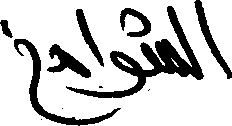ا: (200, 0, 229, 80), (85, 20, 101, 67)
خ: (0, 17, 40, 119)
ش: (120, 3, 184, 71)
ل: (183, 0, 203, 80)
م: (48, 45, 87, 79)
و: (103, 47, 142, 100)
